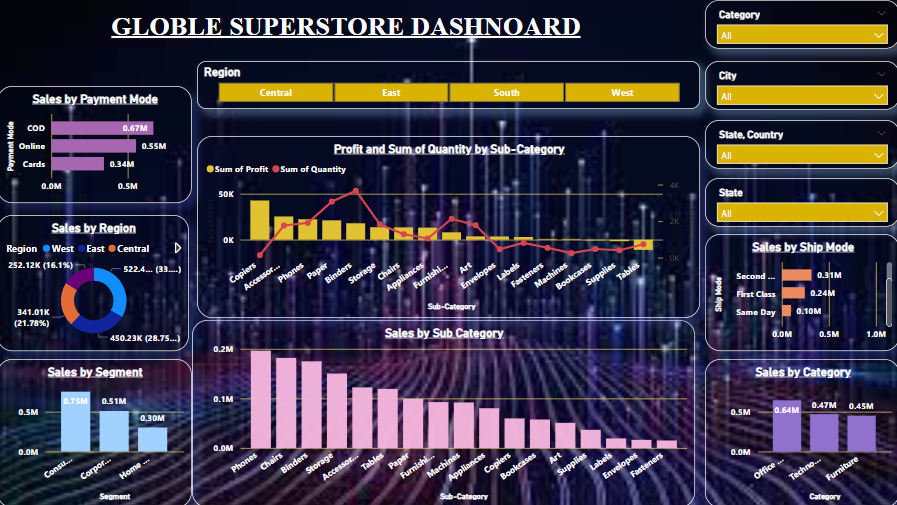

Layout of this report page (visuals, bound fields, positions):
{"tool":"powerbi","page":{"name":"Page 1","canvas":[1280,720],"ordinal":0},"visuals":[{"type":"barChart","title":" Sales by Payment Mode","fields":{"Y":["Sum(SuperStore_Sales_Dataset.Sales)"],"Category":["SuperStore_Sales_Dataset.Payment Mode"]},"box":[0,121.9,276.4,165.8],"z":0},{"type":"donutChart","title":" Sales by Region","fields":{"Y":["Sum(SuperStore_Sales_Dataset.Sales)"],"Category":["SuperStore_Sales_Dataset.Region"]},"box":[0,304.7,272.1,192.8],"z":1000},{"type":"columnChart","title":" Sales by Segment ","fields":{"Category":["SuperStore_Sales_Dataset.Segment"],"Y":["Sum(SuperStore_Sales_Dataset.Sales)"]},"box":[0,508.8,276.4,211.2],"z":2000},{"type":"columnChart","title":" Sales by Category ","fields":{"Category":["SuperStore_Sales_Dataset.Category"],"Y":["Sum(SuperStore_Sales_Dataset.Sales)"]},"box":[1003.5,508.8,276.4,211.2],"z":3000},{"type":"columnChart","title":" Sales by Sub  Category ","fields":{"Category":["SuperStore_Sales_Dataset.Sub-Category"],"Y":["Sum(SuperStore_Sales_Dataset.Sales)"]},"box":[276.4,453.5,712.9,266.5],"z":4000},{"type":"barChart","title":" Sales by Ship Mode","fields":{"Y":["Sum(SuperStore_Sales_Dataset.Sales)"],"Category":["SuperStore_Sales_Dataset.Ship Mode"]},"box":[1003.5,331.7,276.4,165.8],"z":5000},{"type":"lineClusteredColumnComboChart","title":" Profit and Sum of Quantity by Sub-Category","fields":{"Category":["SuperStore_Sales_Dataset.Sub-Category"],"Y":["Sum(SuperStore_Sales_Dataset.Profit)"],"Y2":["Sum(SuperStore_Sales_Dataset.Quantity)"]},"box":[283.5,192.8,712.9,258],"z":6000},{"type":"slicer","fields":{"Values":["SuperStore_Sales_Dataset.State"]},"box":[1003.5,252.3,276.4,69.4],"z":7000},{"type":"slicer","fields":{"Values":["SuperStore_Sales_Dataset.State","SuperStore_Sales_Dataset.Country"]},"box":[1003.5,170.1,276.4,69.4],"z":8000},{"type":"slicer","fields":{"Values":["SuperStore_Sales_Dataset.City"]},"box":[1003.5,86.5,276.4,69.4],"z":9000},{"type":"slicer","fields":{"Values":["SuperStore_Sales_Dataset.Category"]},"box":[1003.5,0,276.4,69.4],"z":10000},{"type":"slicer","title":"Region","fields":{"Values":["SuperStore_Sales_Dataset.Region"]},"box":[283.5,86.5,712.9,68],"z":11000},{"type":"textbox","box":[0,9.9,989.3,93.5],"z":12000}]}

Visuals, with their boxes in screenshot pixels (x1, y1, x2, y2), scaled from the page's 1280x720 canvas onto the 897x505 screenshot:
" Sales by Payment Mode" barChart: pyautogui.locateOnScreen(0, 85, 194, 202)
" Sales by Region" donutChart: pyautogui.locateOnScreen(0, 214, 191, 349)
" Sales by Segment " columnChart: pyautogui.locateOnScreen(0, 357, 194, 504)
" Sales by Category " columnChart: pyautogui.locateOnScreen(703, 357, 896, 504)
" Sales by Sub  Category " columnChart: pyautogui.locateOnScreen(194, 318, 693, 504)
" Sales by Ship Mode" barChart: pyautogui.locateOnScreen(703, 233, 896, 349)
" Profit and Sum of Quantity by Sub-Category" lineClusteredColumnComboChart: pyautogui.locateOnScreen(199, 135, 698, 316)
slicer - SuperStore_Sales_Dataset.State: pyautogui.locateOnScreen(703, 177, 896, 226)
slicer - SuperStore_Sales_Dataset.State x SuperStore_Sales_Dataset.Country: pyautogui.locateOnScreen(703, 119, 896, 168)
slicer - SuperStore_Sales_Dataset.City: pyautogui.locateOnScreen(703, 61, 896, 109)
slicer - SuperStore_Sales_Dataset.Category: pyautogui.locateOnScreen(703, 0, 896, 49)
"Region" slicer: pyautogui.locateOnScreen(199, 61, 698, 108)
textbox: pyautogui.locateOnScreen(0, 7, 693, 73)
